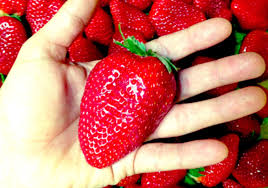ripe: (76, 43, 175, 169)
